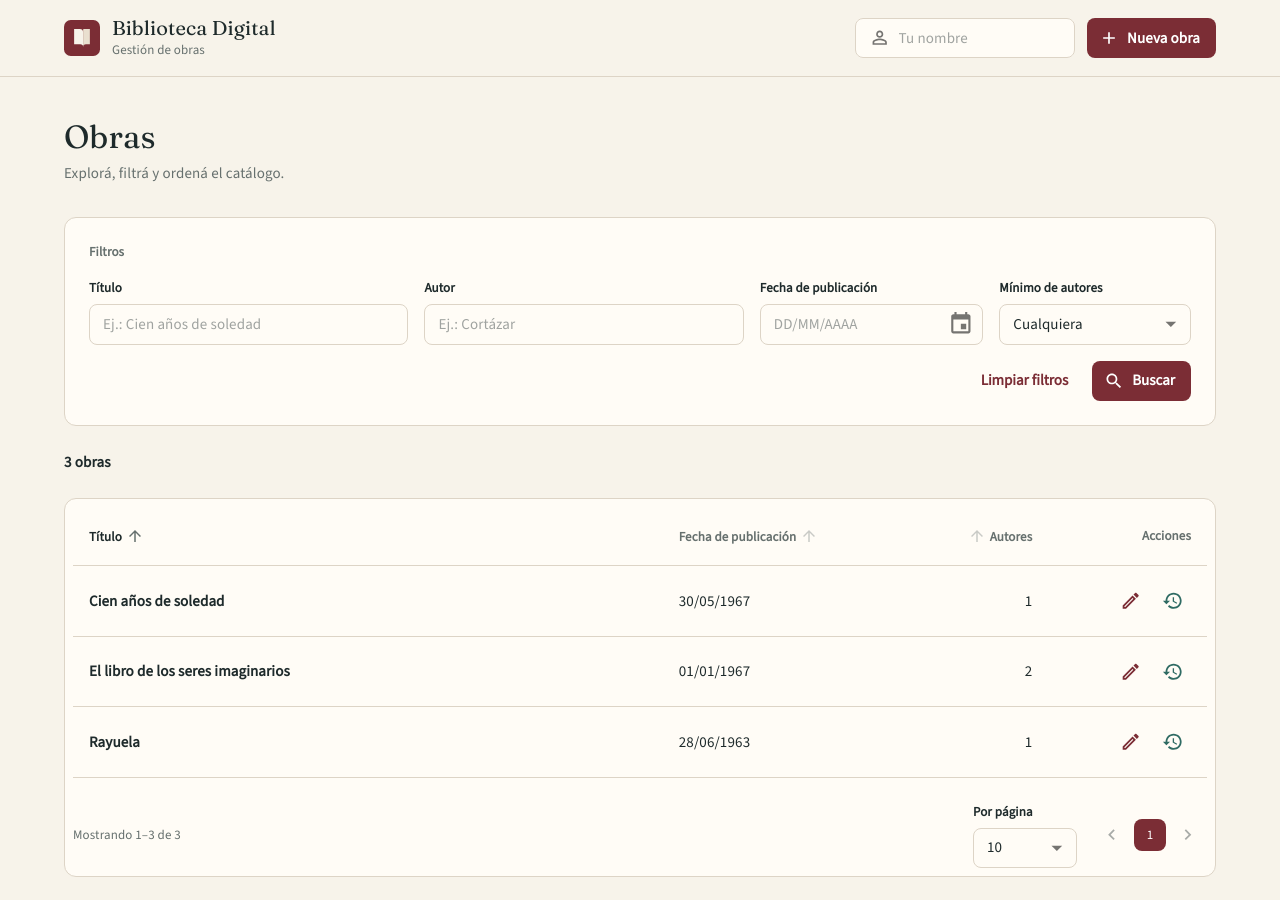
Scenario: Listado de obras › Buscar aplica los textos sin esperar
Type "borges" into the field labelled "Autor" at (584, 324), box [424,304,744,345]
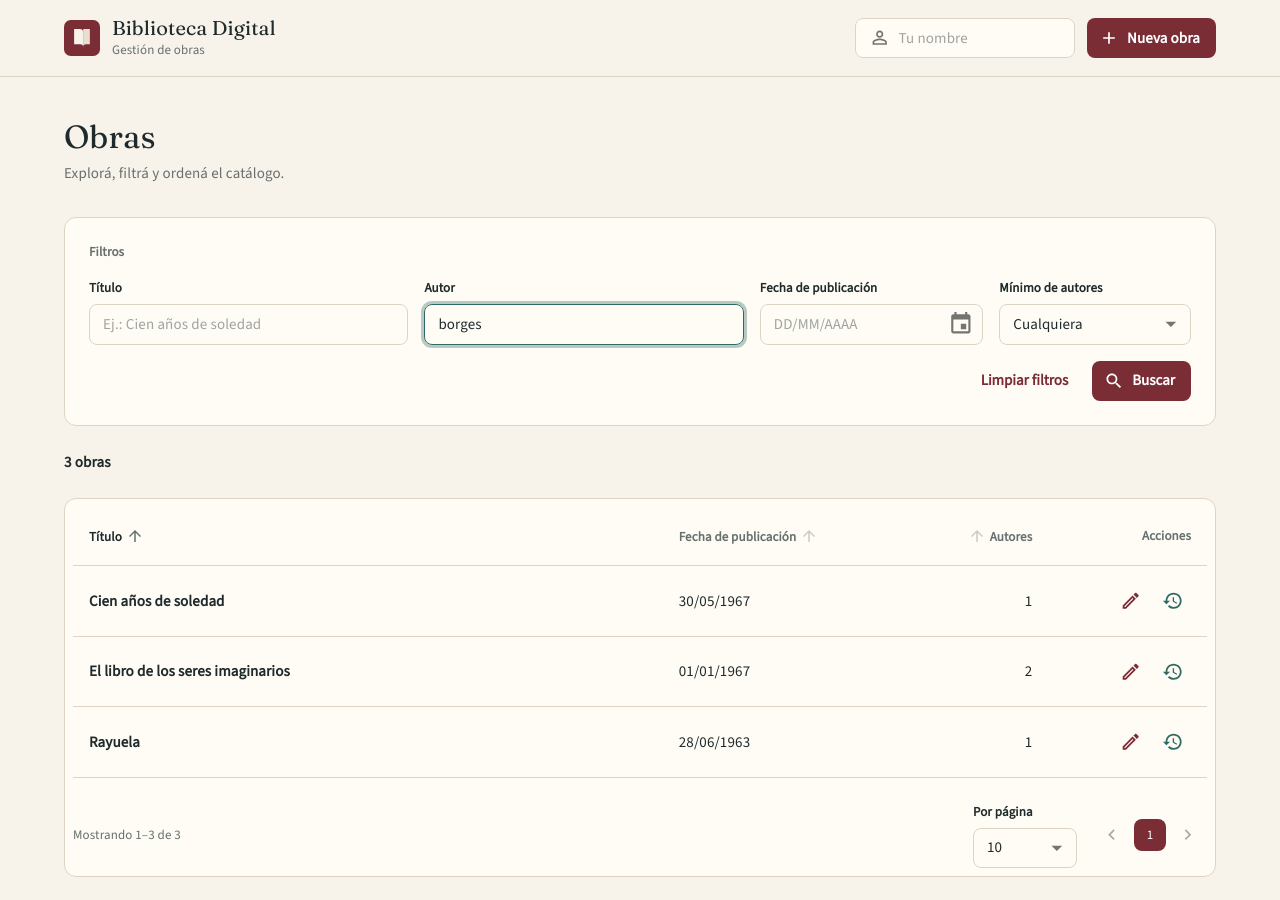
Click the button "Buscar" at (1142, 381), box [1092,361,1191,401]
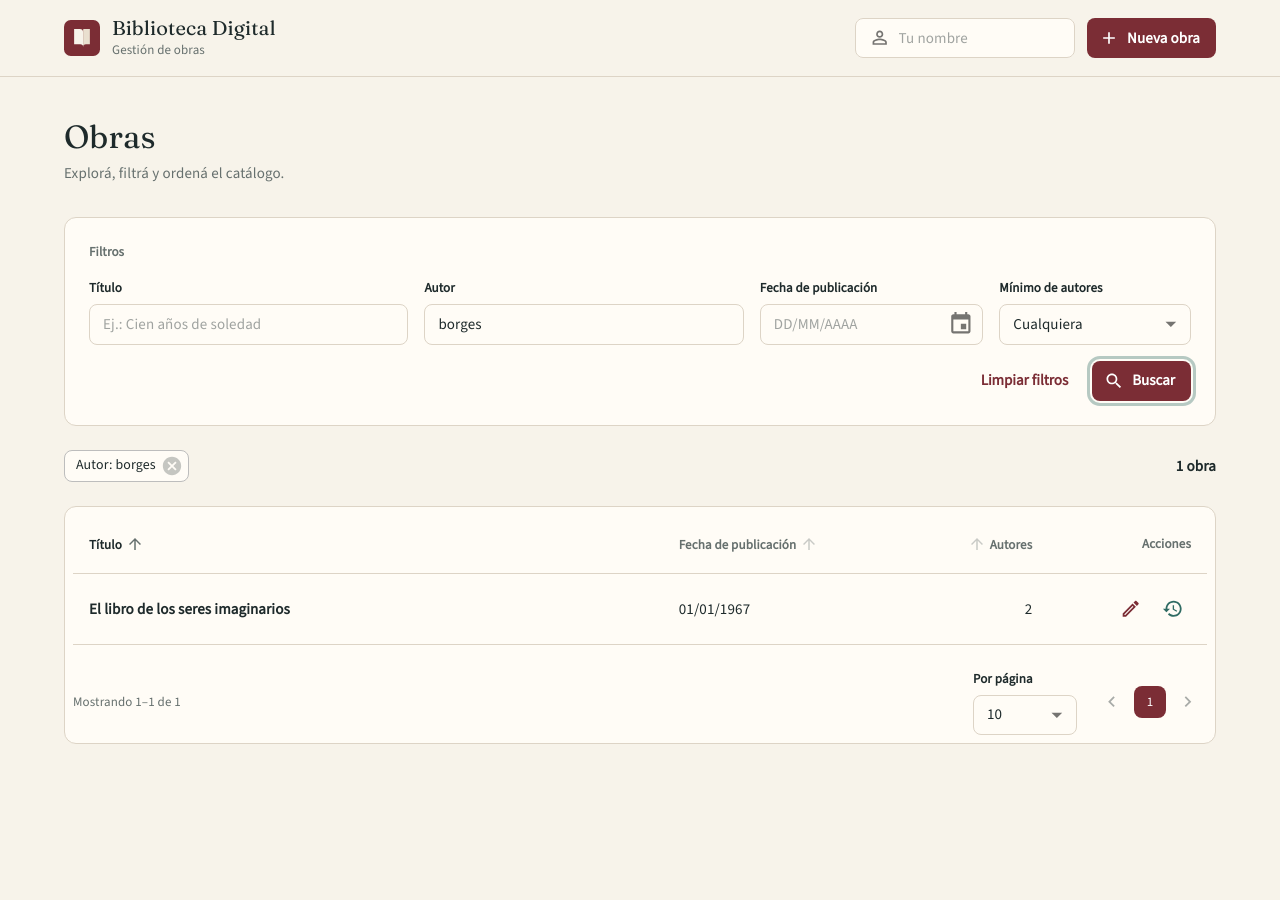
Expected: the message reads "1 obra", [1176,456,1216,476]
